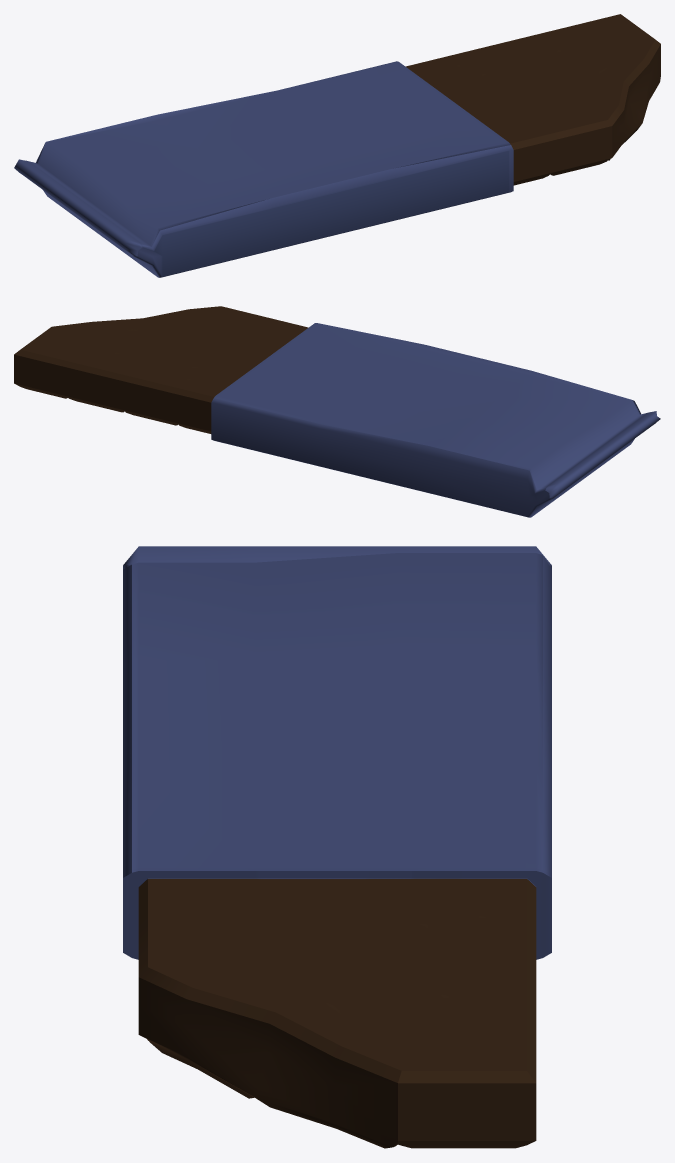
Rendered from ChocolateBar.fbx.
The picture shows the model from 3 angles, top to bottom: view 1: azimuth 30°, elevation 25°; view 2: azimuth 150°, elevation 25°; view 3: azimuth 270°, elevation 25°; orthographic projection. The views are drawn at different scales.
Parts seen in each view (by area): view 1: Chocolatebar; view 2: Chocolatebar; view 3: Chocolatebar.
Boxes of the visible parts, x1,y1,x2,y2 form: Chocolatebar: (14, 14, 660, 277); Chocolatebar: (14, 306, 660, 517); Chocolatebar: (123, 546, 551, 1148).
Size of the model in its own units: 2.95 by 0.2533 by 1.
